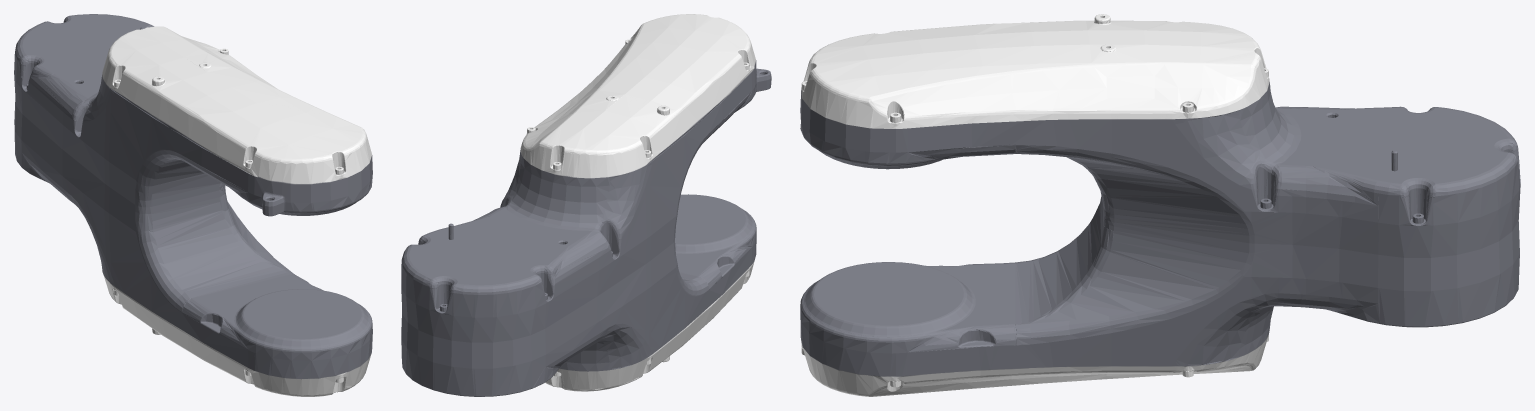
The picture shows the model from 3 angles, left to right: view 1: azimuth 30°, elevation 25°; view 2: azimuth 150°, elevation 25°; view 3: azimuth 270°, elevation 25°; orthographic projection. The views are drawn at different scales.
Visible parts, largest first — view 1: link_2-mesh; view 2: link_2-mesh; view 3: link_2-mesh.
Boxes of the visible parts, <box> form: link_2-mesh: <box>14,14,372,396</box>; link_2-mesh: <box>401,14,771,396</box>; link_2-mesh: <box>800,14,1520,396</box>.
Bounding box in the file's own units: 0.1359 × 0.222 × 0.4491.
1 material, 1 textured.
